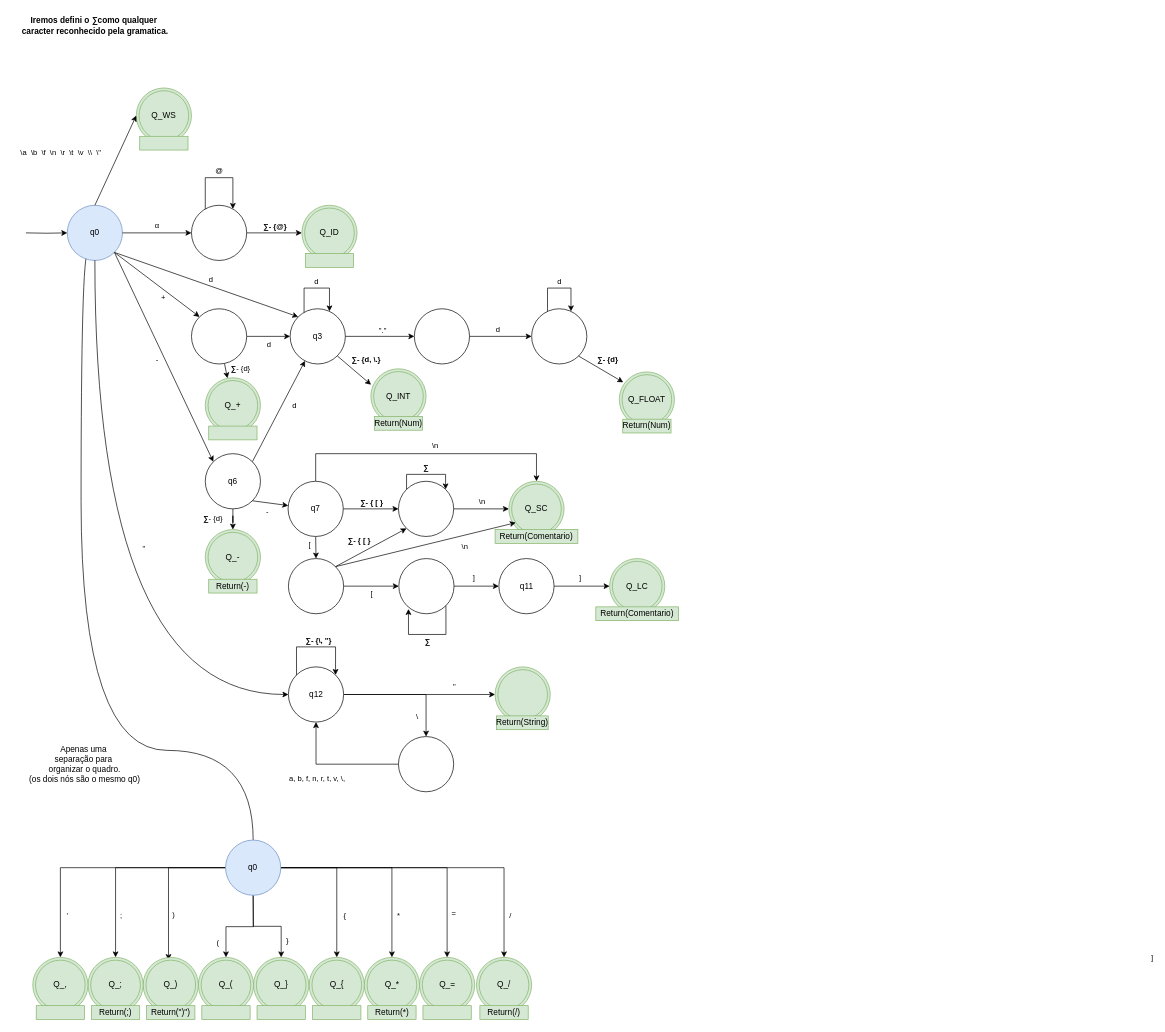
Image size: 1165x1032. Some labels were removed from this diagram. The centre of each missing label's shape, as x and y in pixels:
q1: point 219,232
q10: point 426,586
q13: point 426,764
q2: point 219,336
q4: point 442,336
q5: point 559,336
q8: point 426,508
q9: point 316,586
Q_STRING: point 522,694
Return("("): point 225,1012
Return(+): point 232,432
Return(,): point 60,1012
Return(=): point 446,1012
Return(ID): point 329,260
Return(ws): point 163,143
Return({): point 336,1012
Return(}): point 280,1012
